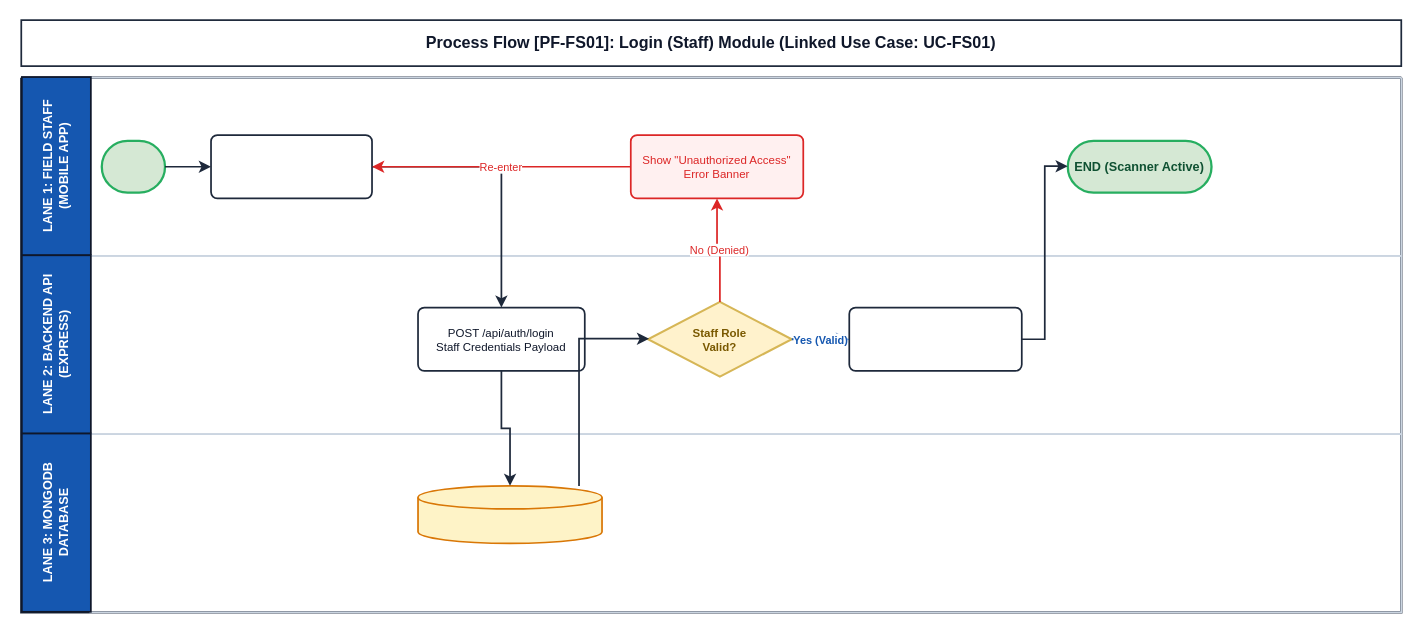
The diagram is 1421 pixels wide and 634 high, and some of its shapes have lost their labels. Here are the shapes that lost their labels. From the top down, the box of each, then its label:
(100, 139, 166, 193): START
(210, 134, 372, 199): Enter Employee ID/Phone & Password
(848, 306, 1022, 371): Sign Scoped Staff JWT & Initialize Scanner View
(417, 484, 602, 544): MongoDB: Query User Record & Check role = "field_staff"
